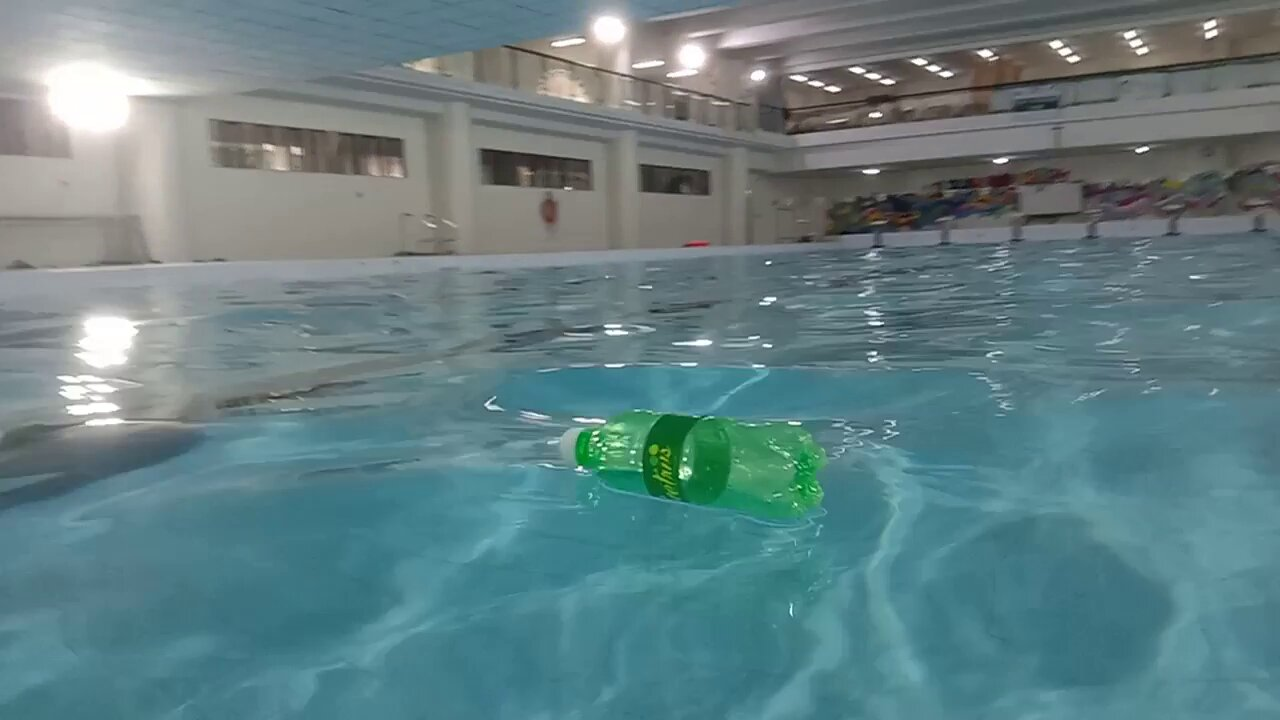plastic_bottle: (561, 411, 829, 525)
